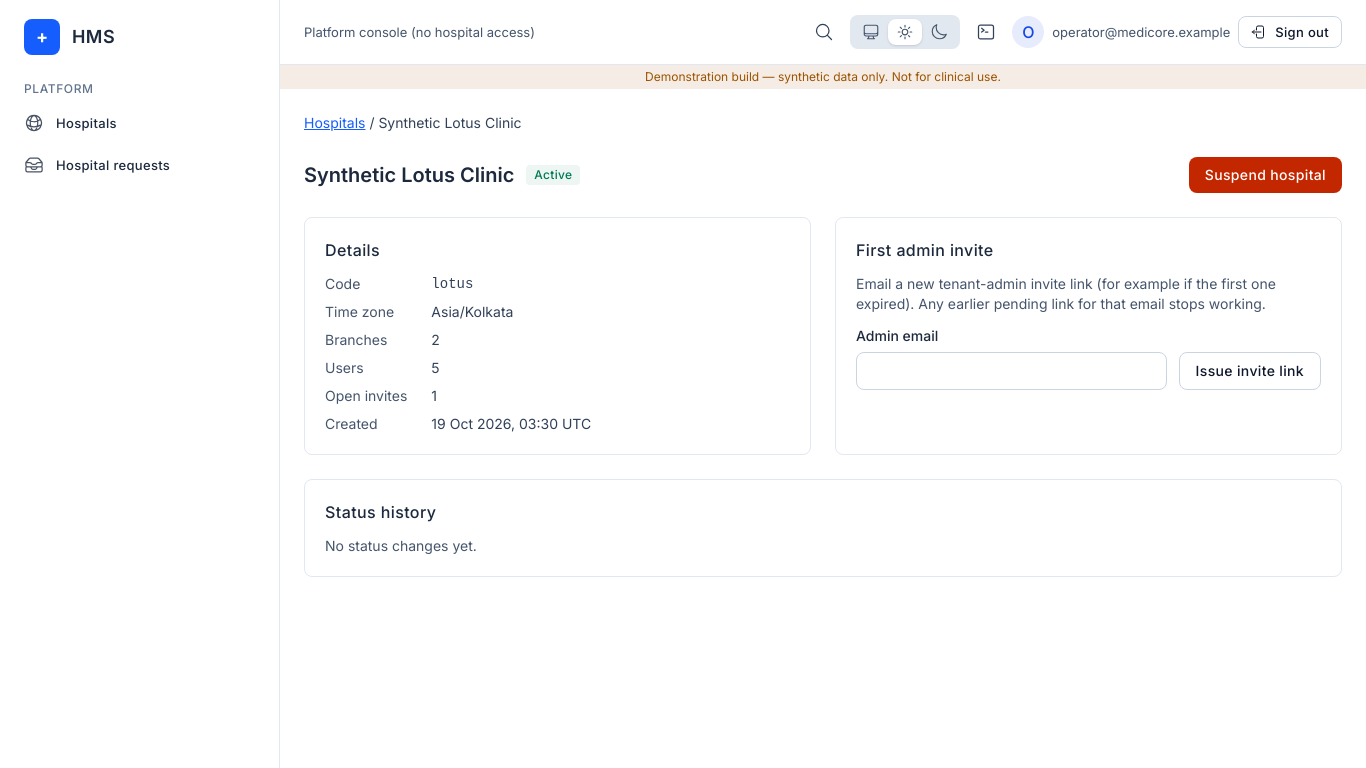
Test: Platform console › suspends a hospital with a reason from its detail page
The width and height of the screenshot is (1366, 768).
Expected: the element with test id "platform-tenant-details" shows "Asia/Kolkata", 431,303 -> 513,320
Expected: the element with test id "platform-tenant-details" shows "19 Oct 2026, 03:30 UTC", 431,415 -> 591,432
Click the button "Suspend hospital".
click(1265, 175)  # box 1189,157 -> 1342,193
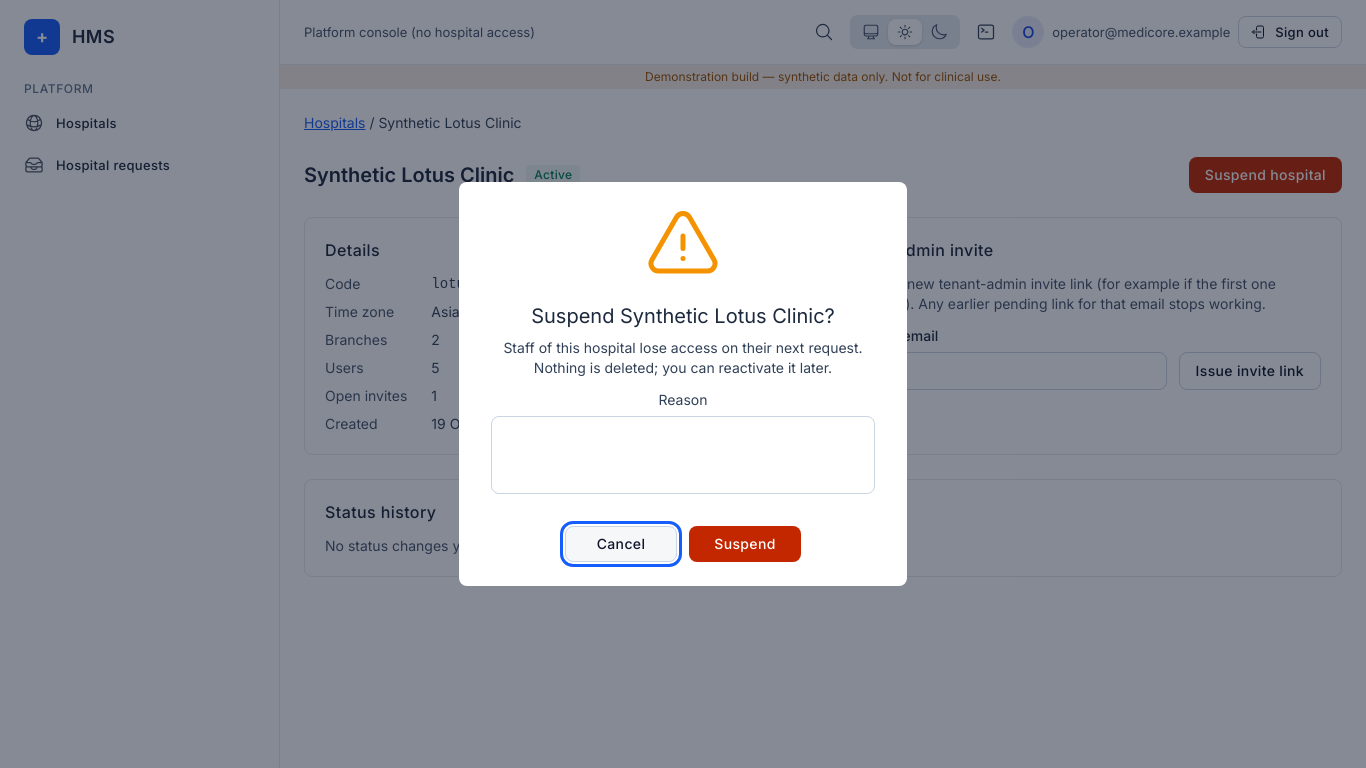
Type "Unpaid synthetic invoice" into the text box labelled "Reason".
click(683, 455); type("Unpaid synthetic invoice")  # box 491,416 -> 875,494
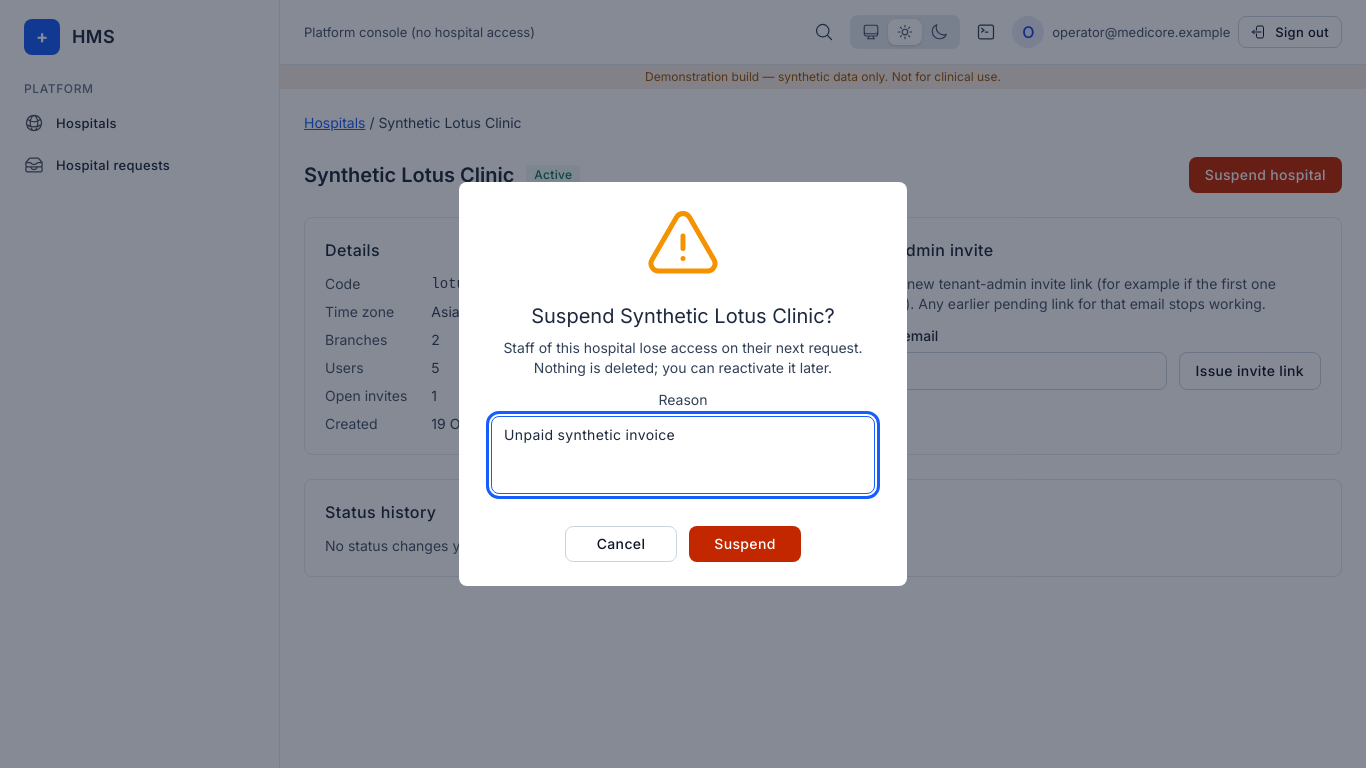
Click the button "Suspend".
click(745, 544)  # box 689,526 -> 801,562
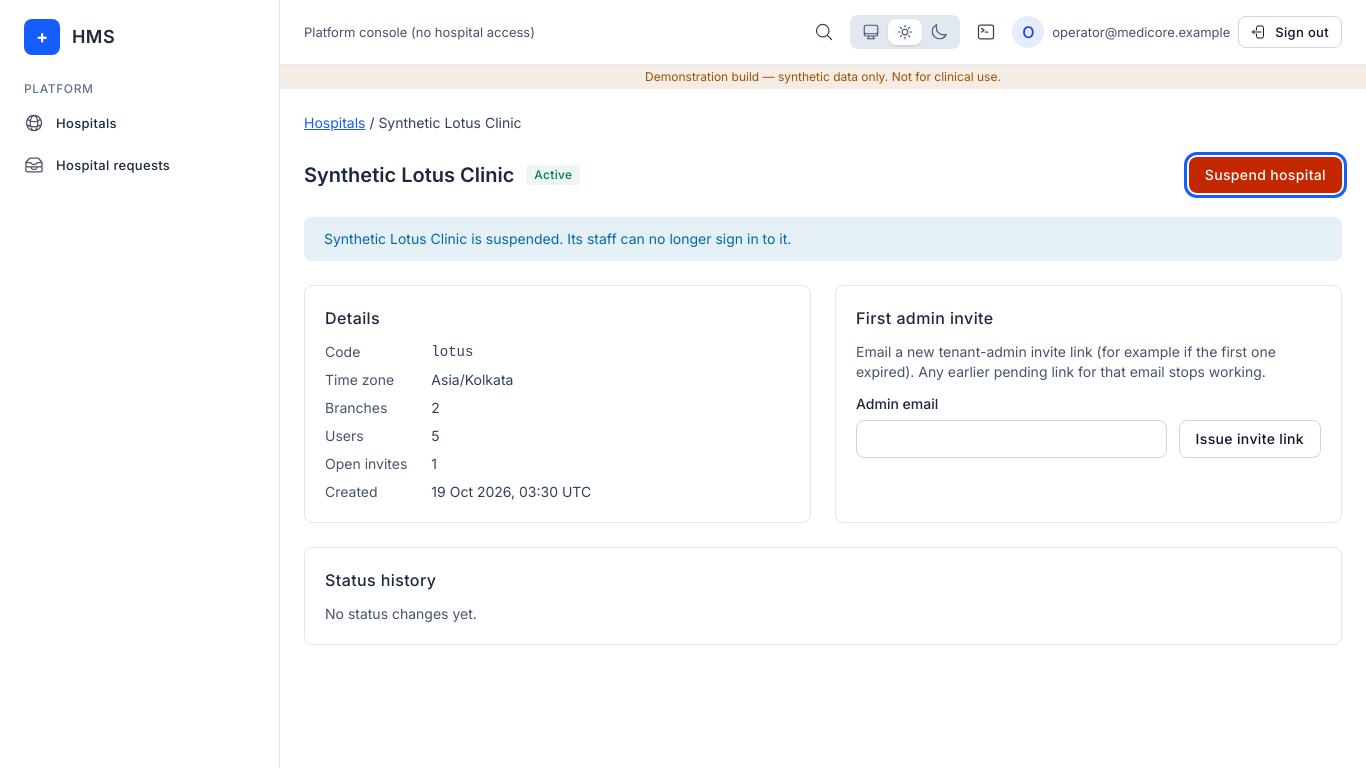
Now the text "Synthetic Lotus Clinic is suspended. Its staff can no longer sign in to it." is shown, box 304,217 -> 1342,261
